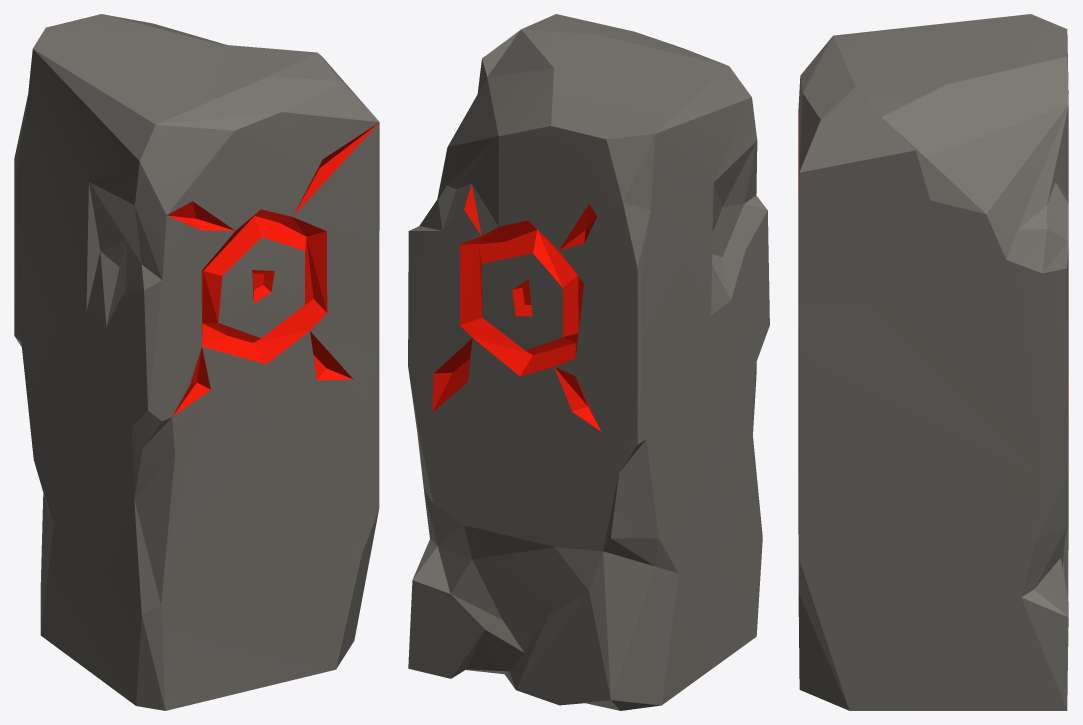
The model's file is SM_Env_Rune_Pillar_04.obj.
3 views of the same model, side by side, from view 1: azimuth 30°, elevation 25°; view 2: azimuth 150°, elevation 25°; view 3: azimuth 270°, elevation 25° (orthographic).
Visible parts, largest first — view 1: SM_Env_Rune_Pillar_04; view 2: SM_Env_Rune_Pillar_04; view 3: SM_Env_Rune_Pillar_04.
Boxes of the visible parts, box(x1,y1,x2,y2) form: SM_Env_Rune_Pillar_04: box(14, 14, 379, 710); SM_Env_Rune_Pillar_04: box(408, 14, 769, 710); SM_Env_Rune_Pillar_04: box(798, 14, 1068, 710).
Size of the model in its own units: 0.2336 by 0.5566 by 0.2337.
